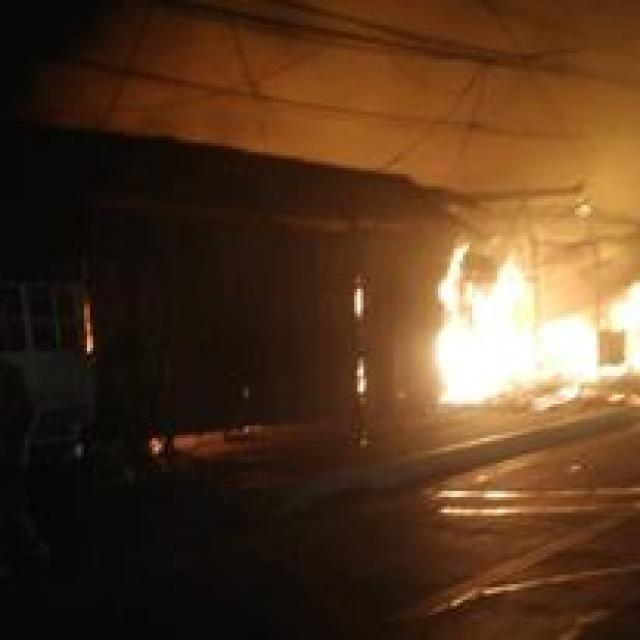Fire: (424, 245, 640, 407)
